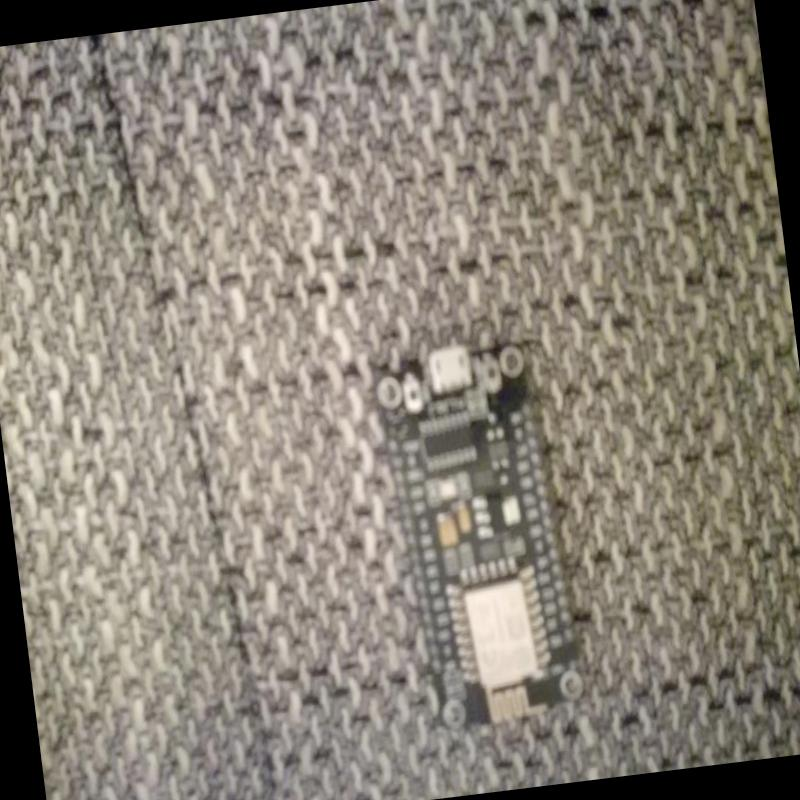ESP8266: (367, 324, 587, 743)
